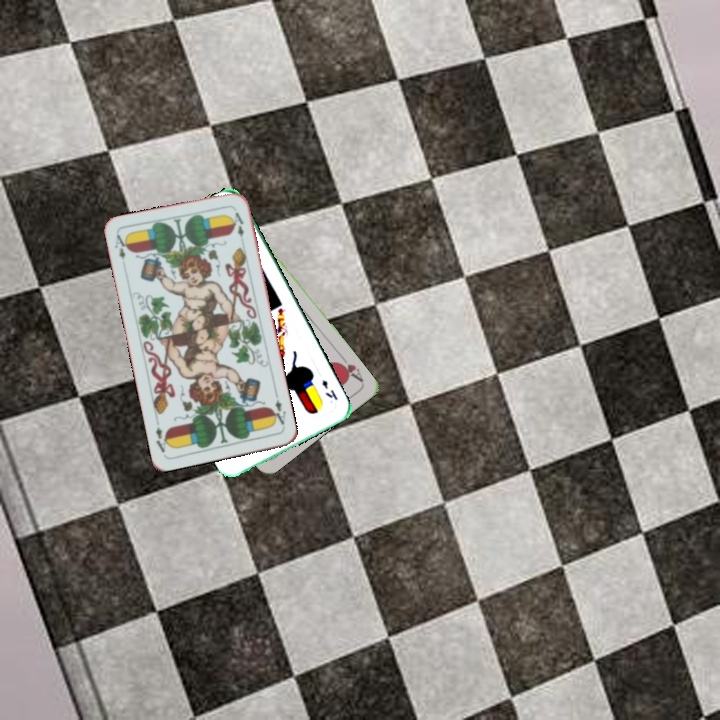EA: (267, 390, 289, 430), (111, 230, 131, 262)
EK: (318, 376, 340, 403)
HA: (333, 350, 366, 385)
